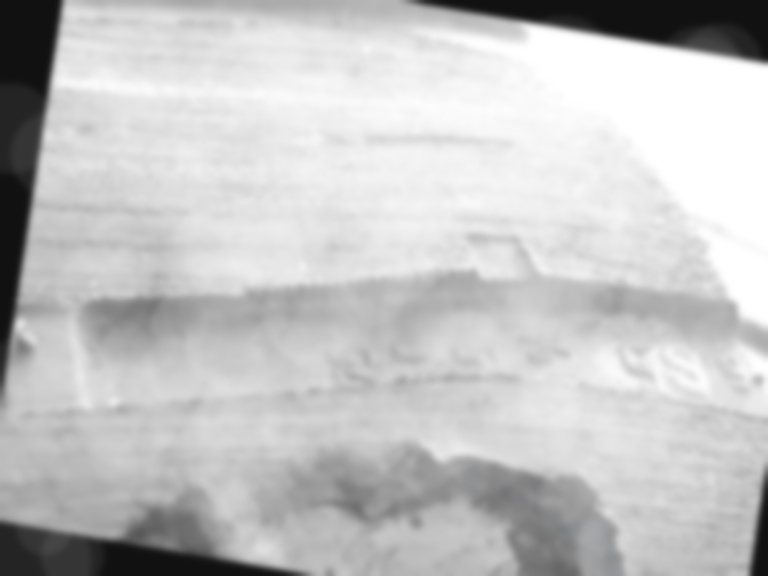temoin:0: (421, 215, 555, 333)
